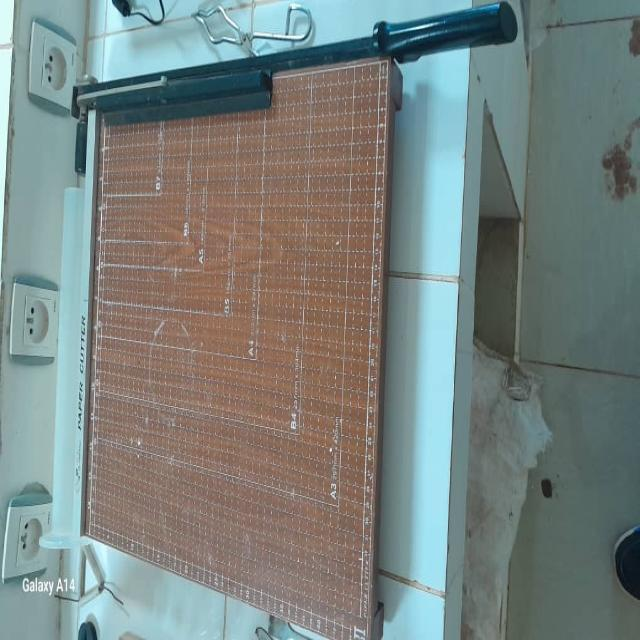TLC Cutter: (66, 4, 532, 640)
